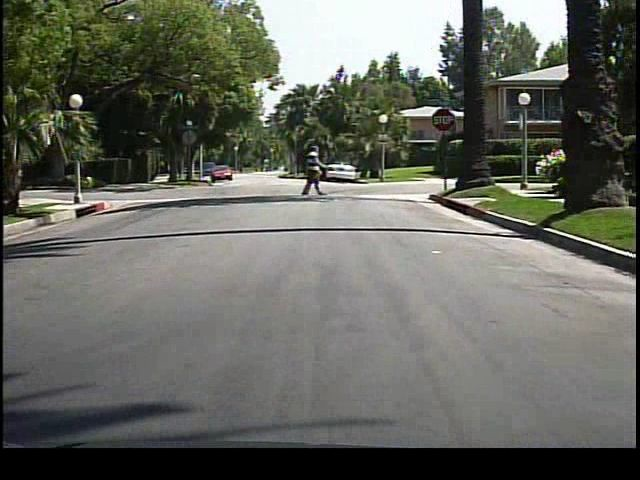person: (299, 146, 322, 198)
